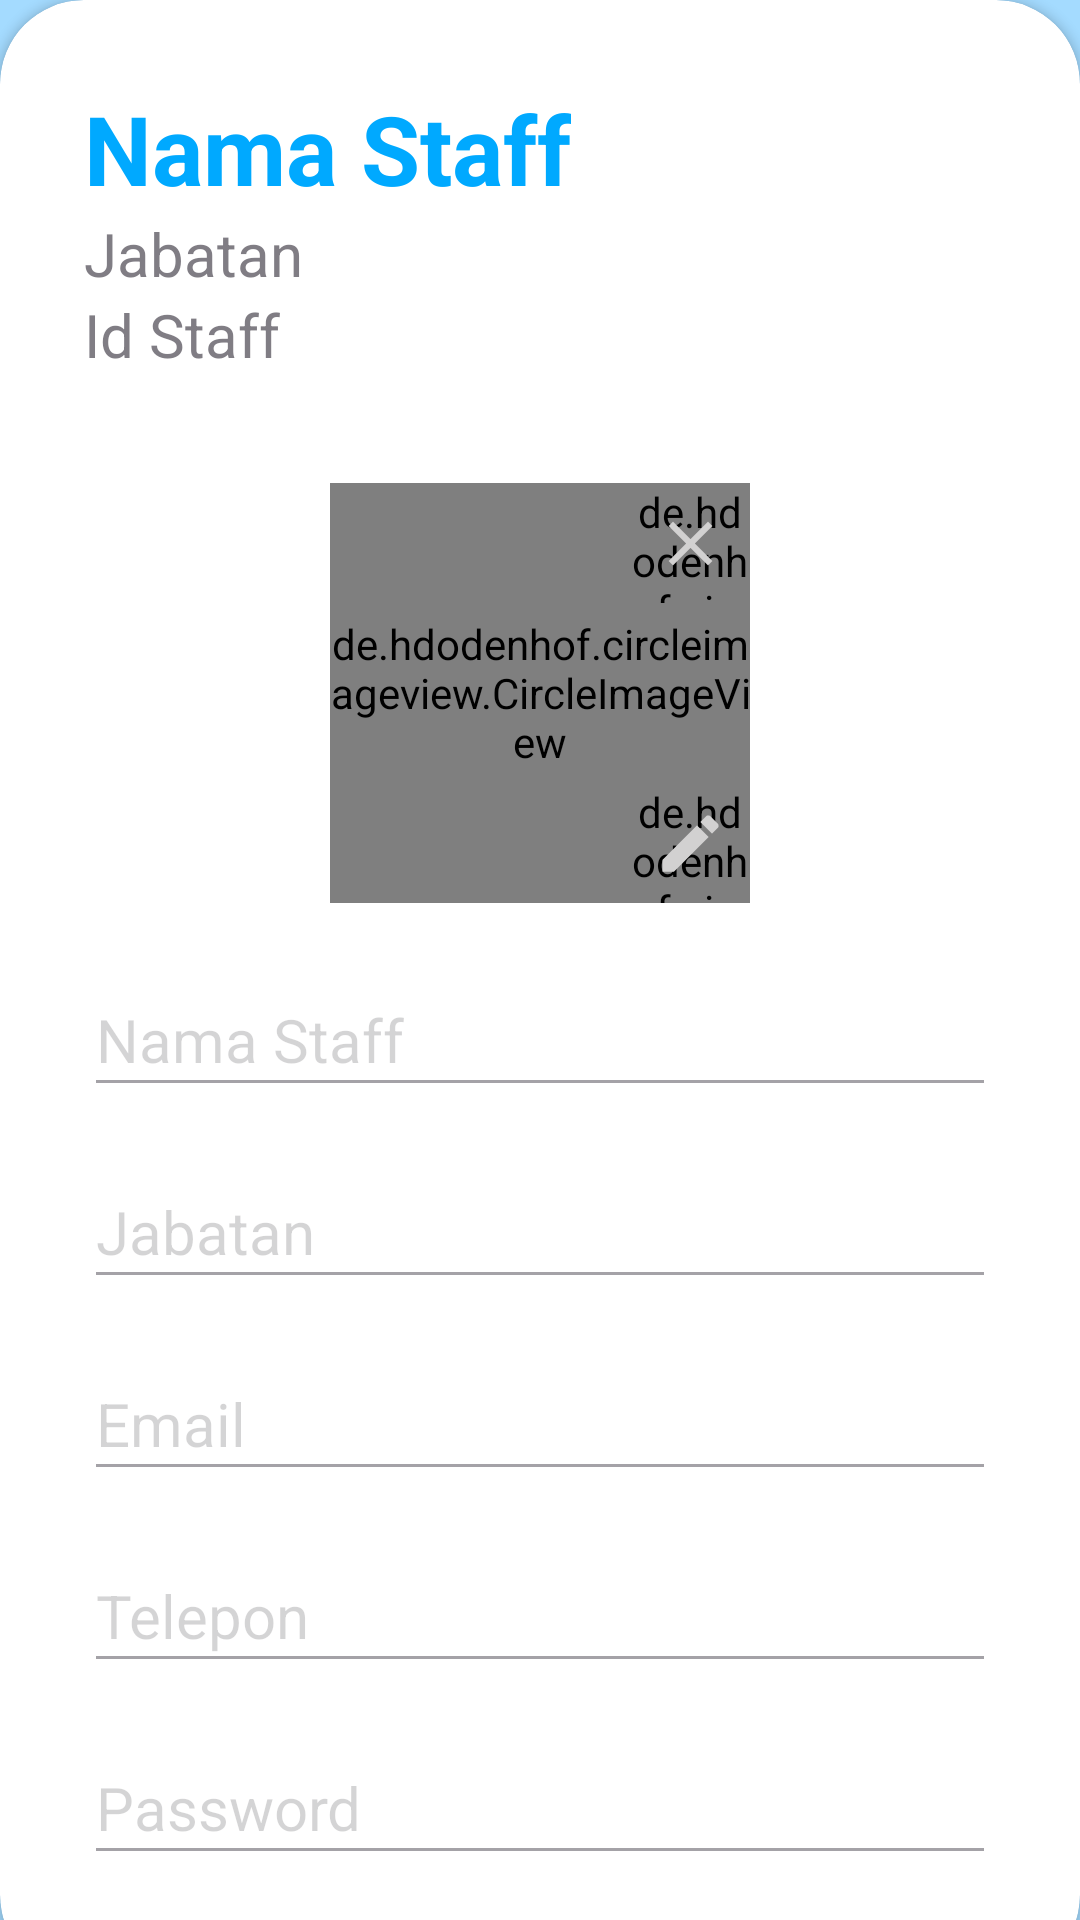

Where icons sit on this 1080x1920 app screen, as box(x1, y1, x2, y2):
delete: box(653, 506, 728, 578)
edit: box(653, 806, 728, 878)
